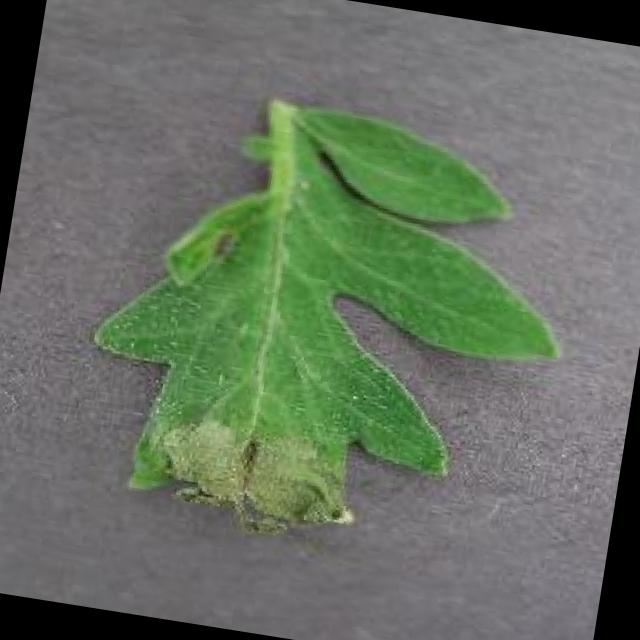Tomato_Late_Blight: (138, 389, 366, 543)
